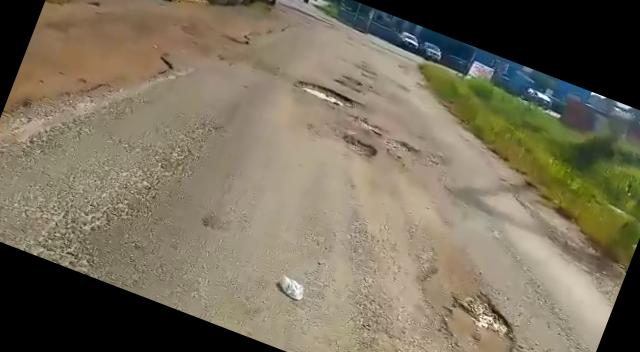pothole: (429, 284, 554, 352), (290, 74, 358, 112), (332, 127, 381, 158), (344, 113, 388, 140), (382, 134, 422, 162)
